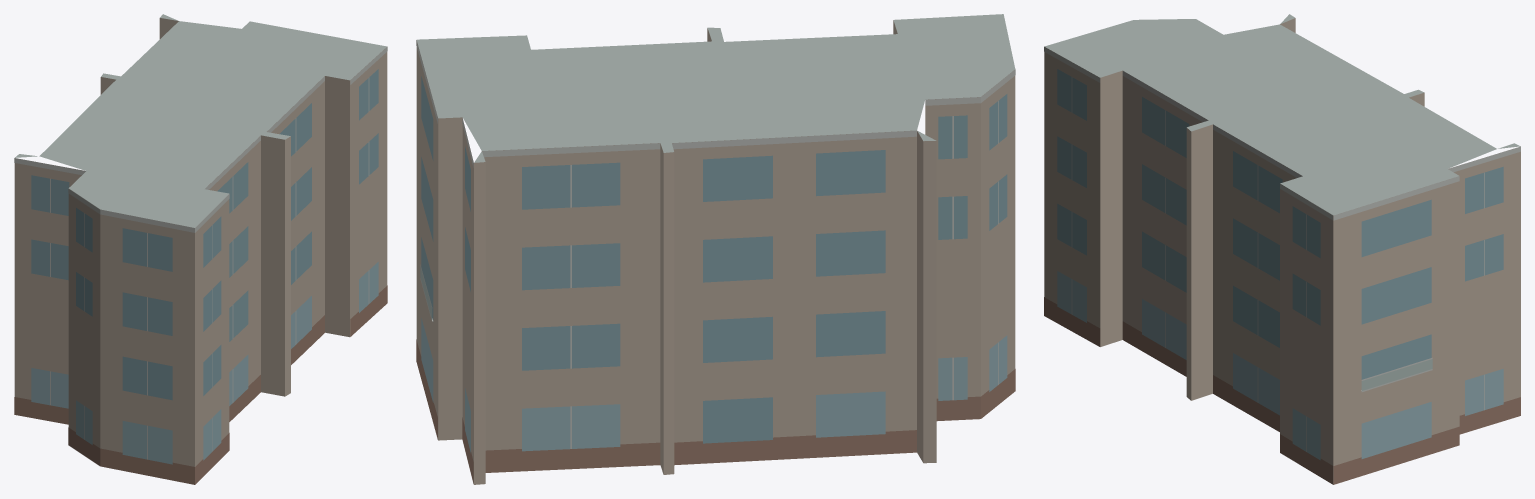
The model's file is survey-upis-32756820.glb.
The picture shows the model from 3 angles, left to right: view 1: azimuth 30°, elevation 25°; view 2: azimuth 150°, elevation 25°; view 3: azimuth 270°, elevation 25°; orthographic projection. The views are drawn at different scales.
Visible parts, largest first — view 1: survey-upis-32756820.tmp; view 2: survey-upis-32756820.tmp; view 3: survey-upis-32756820.tmp.
Part boxes in pixels (x1,y1,x2,y2): survey-upis-32756820.tmp: (14, 14, 387, 484); survey-upis-32756820.tmp: (416, 14, 1015, 484); survey-upis-32756820.tmp: (1044, 14, 1520, 484).
Bounding box in the file's own units: 20.23 × 12.6 × 20.22.
